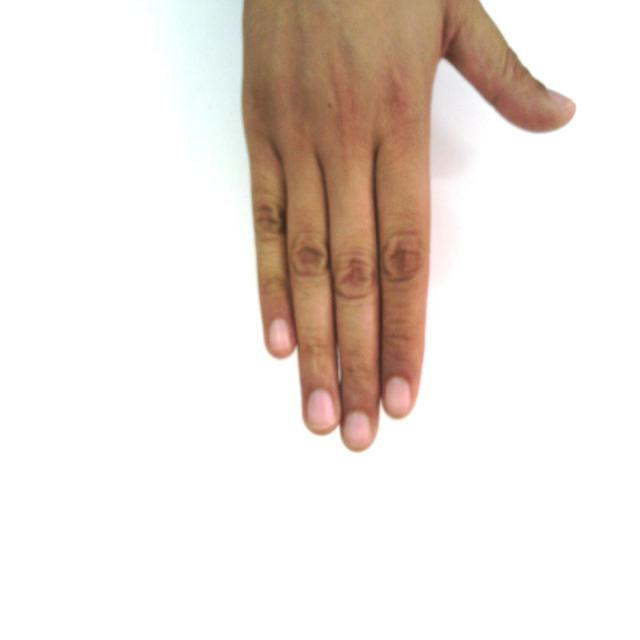Fingernail: (307, 390, 335, 430), (343, 410, 370, 448), (387, 377, 409, 416), (269, 318, 293, 350), (547, 91, 571, 105)
